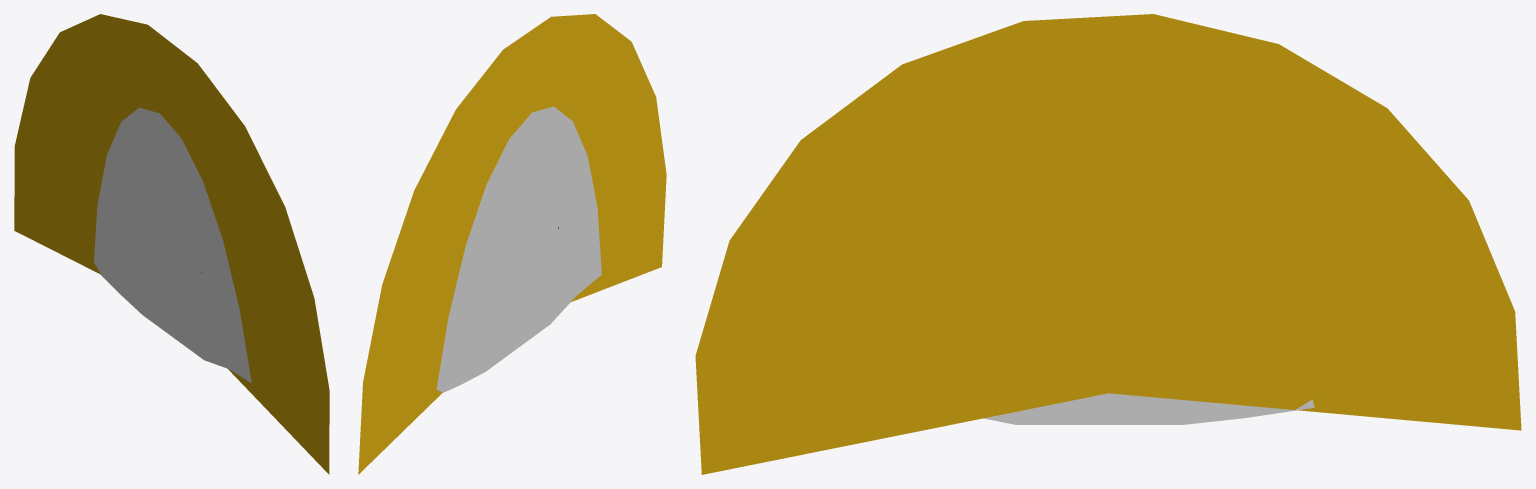
Rendered from puertag.obj.
3 views of the same model, side by side, from view 1: azimuth 30°, elevation 25°; view 2: azimuth 150°, elevation 25°; view 3: azimuth 270°, elevation 25° (orthographic). The views are drawn at different scales.
Parts seen in each view (by area): view 1: polySurface2 puertag2:polySurface148, polySurface4 polySurface1 pDisc1; view 2: polySurface2 puertag2:polySurface148, polySurface4 polySurface1 pDisc1; view 3: polySurface2 puertag2:polySurface148, polySurface4 polySurface1 pDisc1.
Boxes of the visible parts, box(x1,y1,x2,y2) form: polySurface2 puertag2:polySurface148: box(14, 14, 329, 474); polySurface4 polySurface1 pDisc1: box(94, 107, 251, 383); polySurface2 puertag2:polySurface148: box(358, 14, 666, 474); polySurface4 polySurface1 pDisc1: box(436, 106, 601, 392); polySurface2 puertag2:polySurface148: box(695, 14, 1521, 474); polySurface4 polySurface1 pDisc1: box(984, 393, 1314, 424).
Size of the model in its own units: 0.2599 by 3.6 by 5.97.
2 materials, 2 textured.
